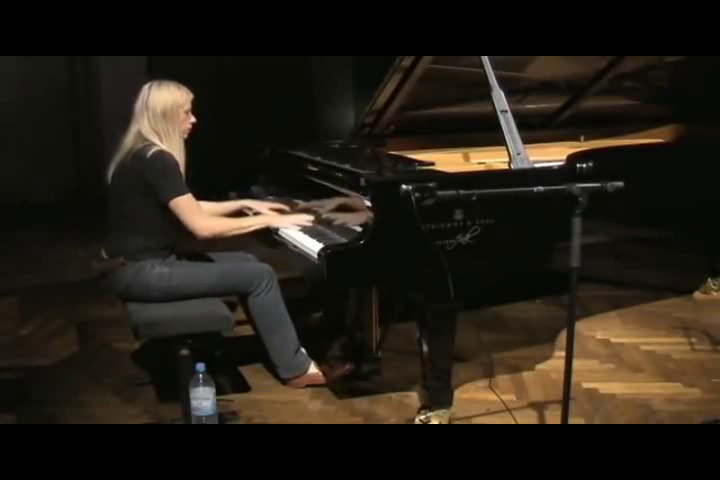keyboard: (220, 185, 366, 262)
